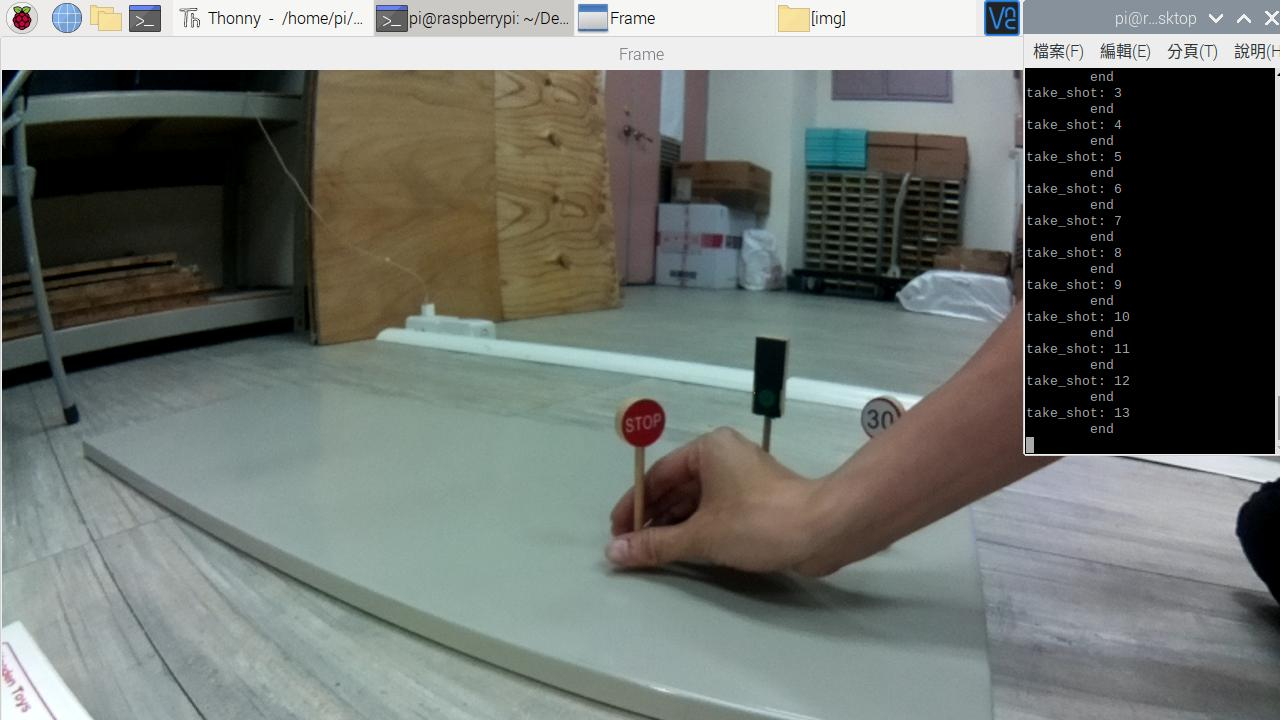Green: (750, 330, 783, 421)
Speed30: (861, 398, 899, 438)
Stop: (611, 395, 668, 447)
